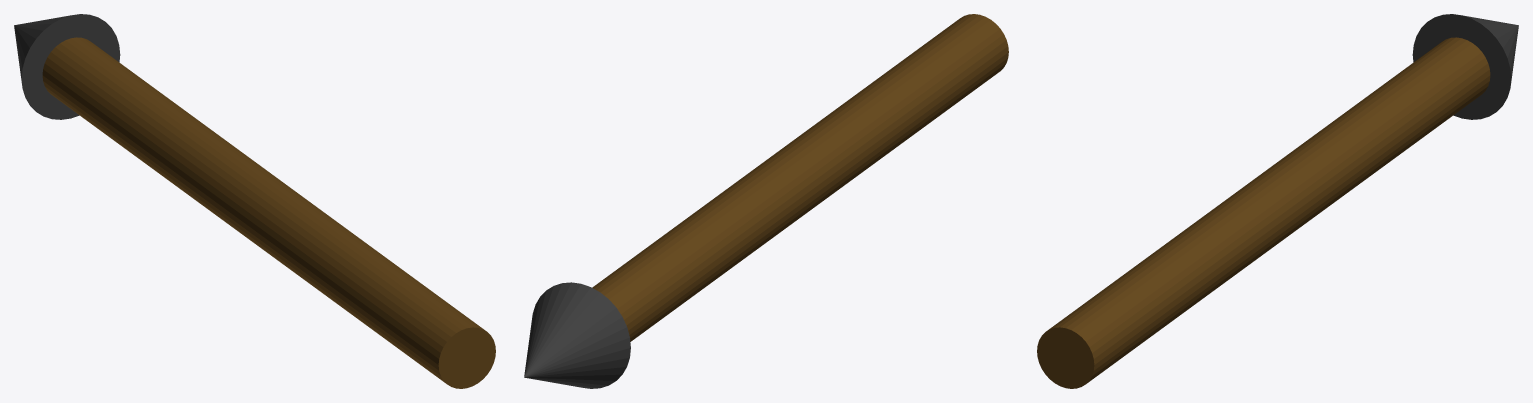
Rendered from arrow1.glb.
The picture shows the model from 3 angles, left to right: view 1: azimuth 30°, elevation 25°; view 2: azimuth 150°, elevation 25°; view 3: azimuth 330°, elevation 25°; orthographic projection.
Visible parts, largest first — view 1: Bolt; view 2: Bolt; view 3: Bolt.
Boxes of the visible parts, x1=… form: Bolt: x1=14, y1=14, x2=495, y2=388; Bolt: x1=524, y1=14, x2=1008, y2=388; Bolt: x1=1037, y1=14, x2=1518, y2=388.
Size of the model in its own units: 0.0477 by 0.0477 by 0.3797.
